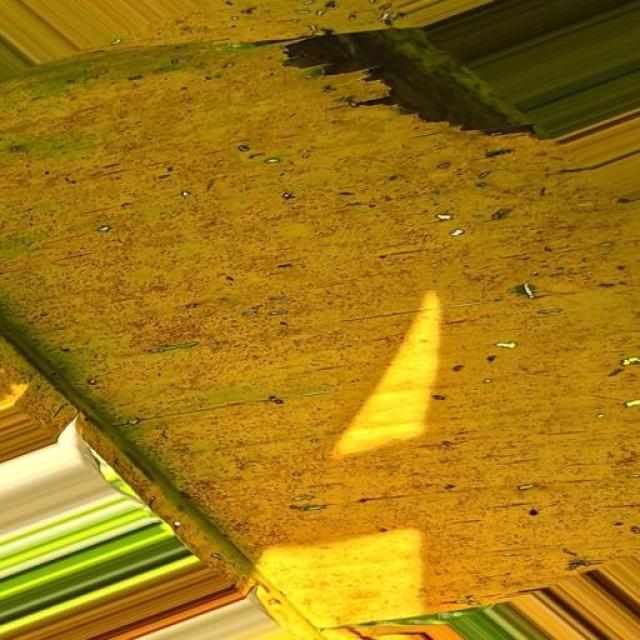Cordana: (0, 21, 640, 612)
